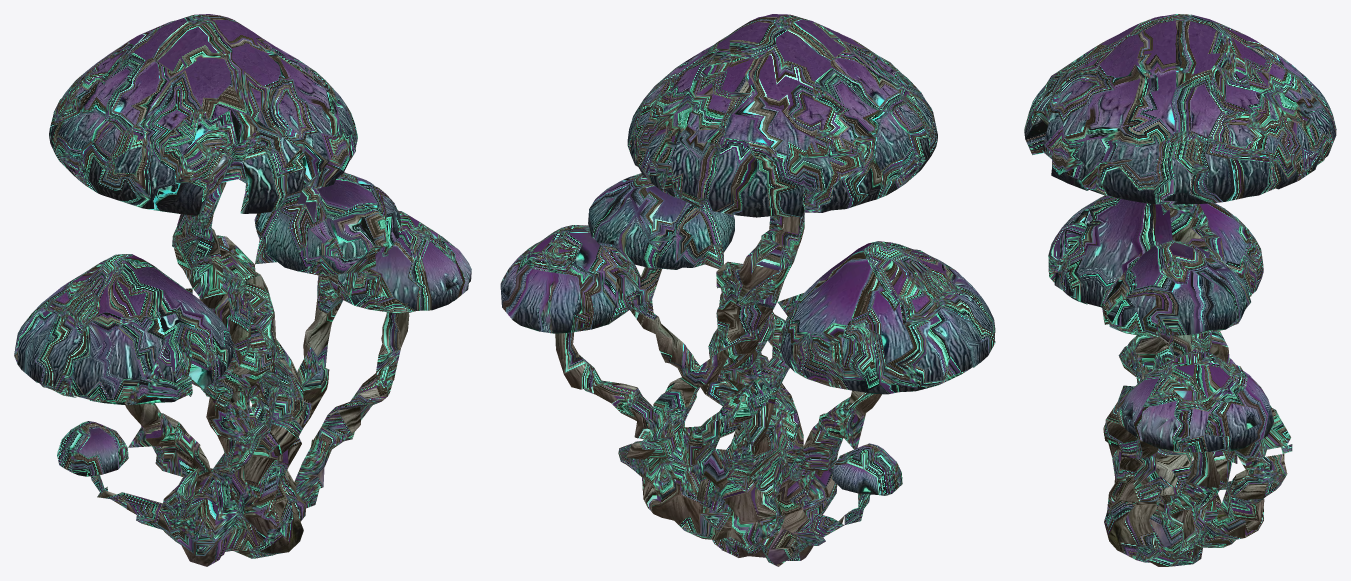
The model's file is glowcaps.glb.
3 renders of one model, left to right at view 1: azimuth 30°, elevation 25°; view 2: azimuth 150°, elevation 25°; view 3: azimuth 270°, elevation 25°, orthographic. The views are drawn at different scales.
Size of the model in its own units: 1.65 by 1.9 by 1.03.
Materials: 1 (1 with a texture image).
